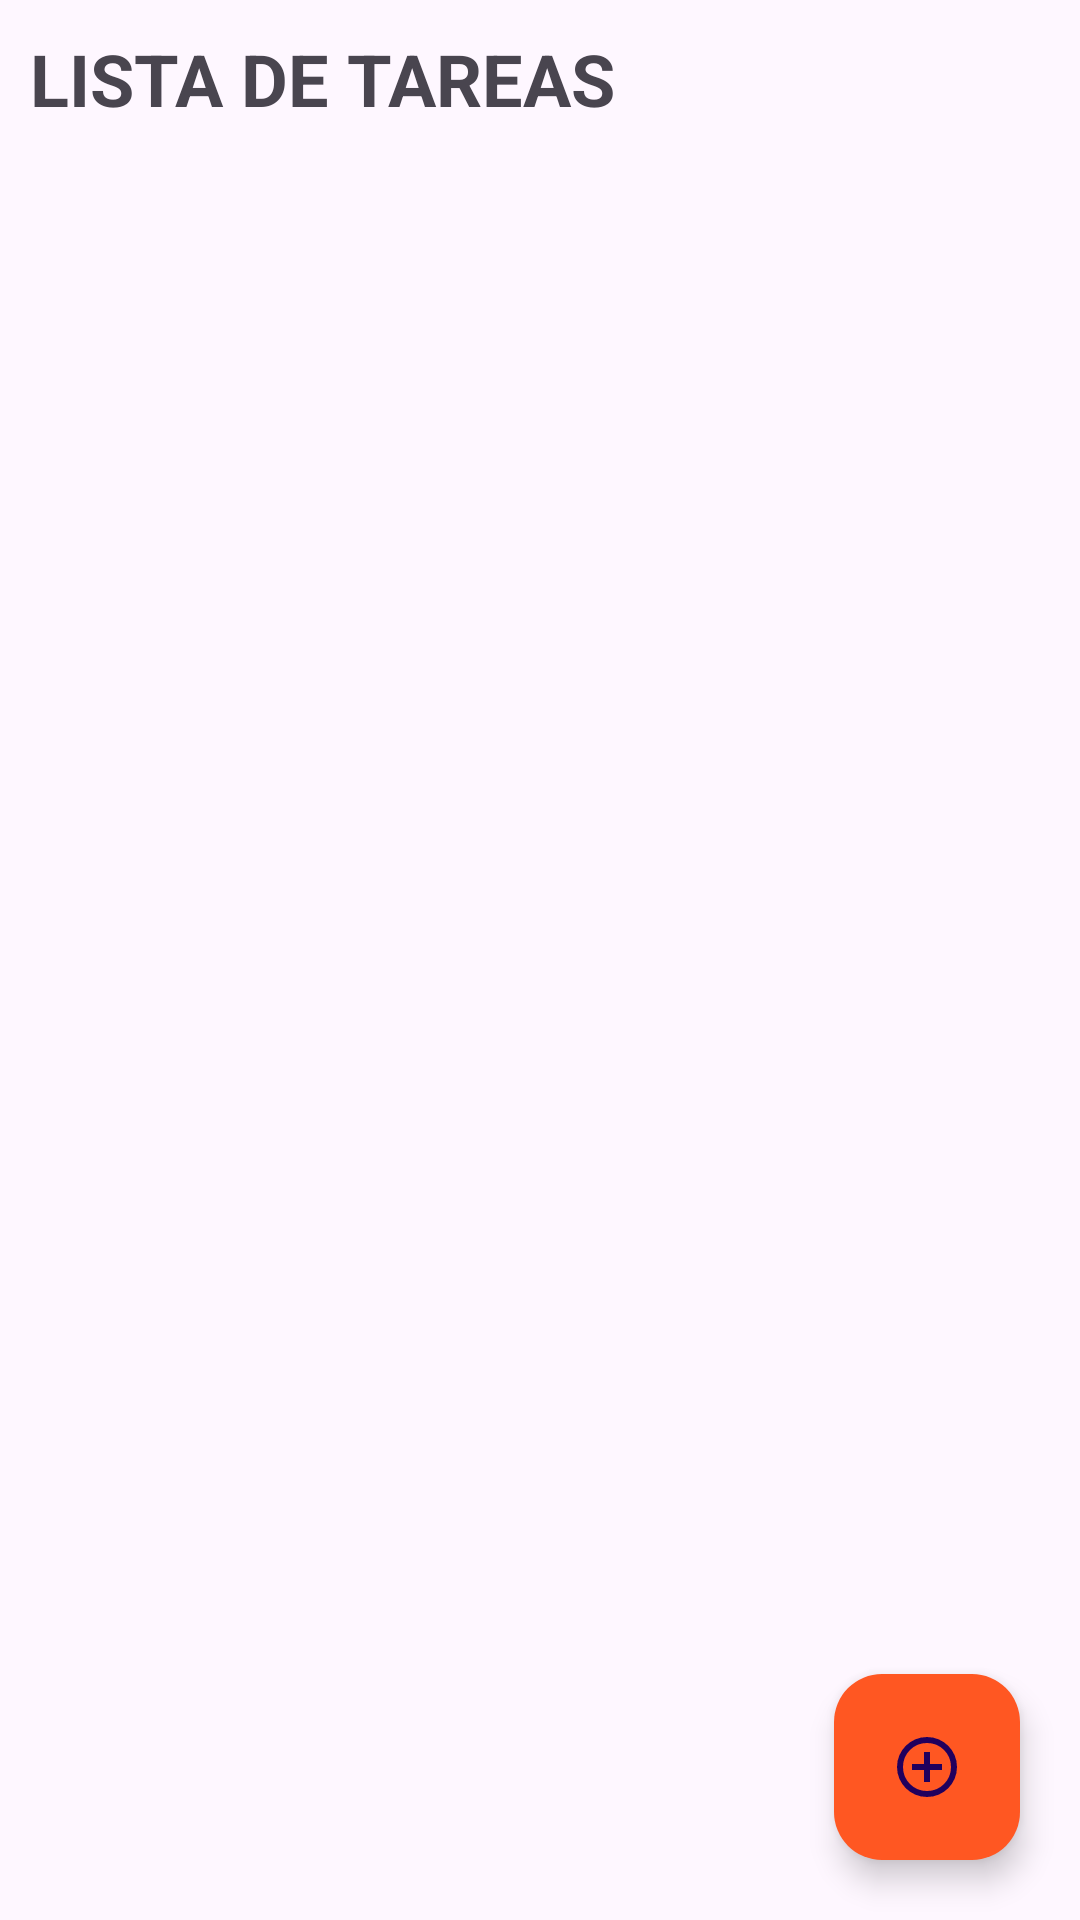

Screen size 1080 x 1920. Icon name, then its center in pixels as [x,y]:
add circle: [927,1767]
